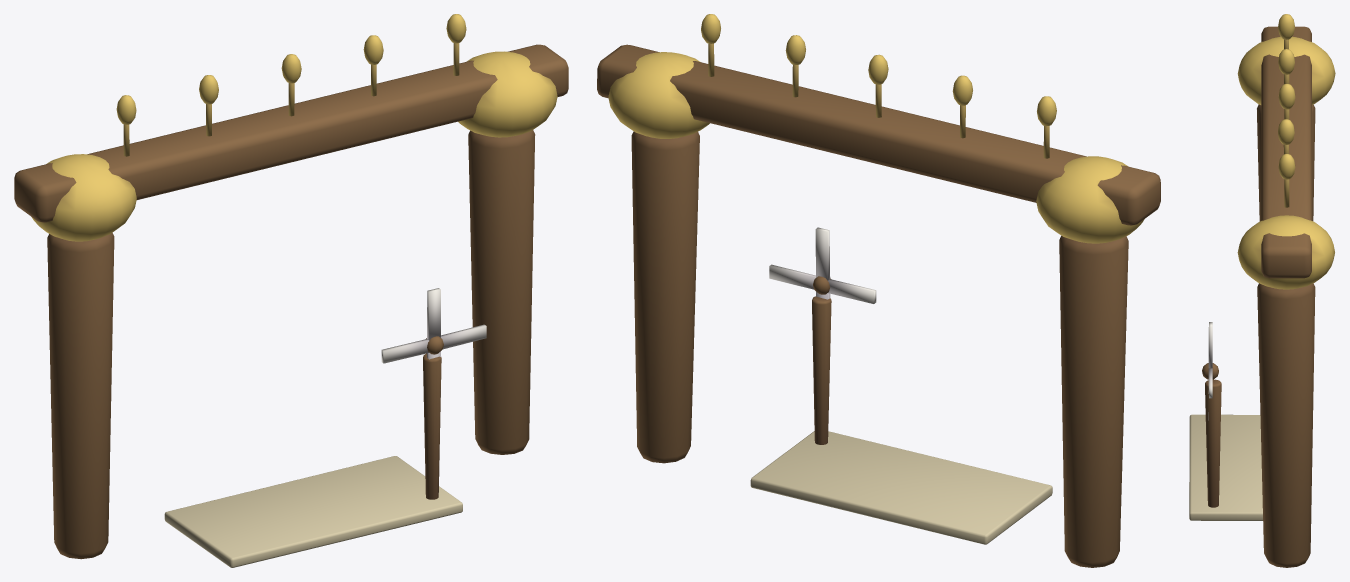
3 views of the same model, side by side, from view 1: azimuth 30°, elevation 25°; view 2: azimuth 150°, elevation 25°; view 3: azimuth 270°, elevation 25° (orthographic). The views are drawn at different scales.
Parts seen in each view (by area): view 1: gate_3beca55d; view 2: gate_3beca55d; view 3: gate_3beca55d.
Boxes of the visible parts, left/top/right/bottom form: gate_3beca55d: left=14, top=14, right=568, bottom=567; gate_3beca55d: left=597, top=14, right=1160, bottom=567; gate_3beca55d: left=1189, top=14, right=1335, bottom=567.
Bounding box in the file's own units: 5.49 × 4.4 × 1.5.
